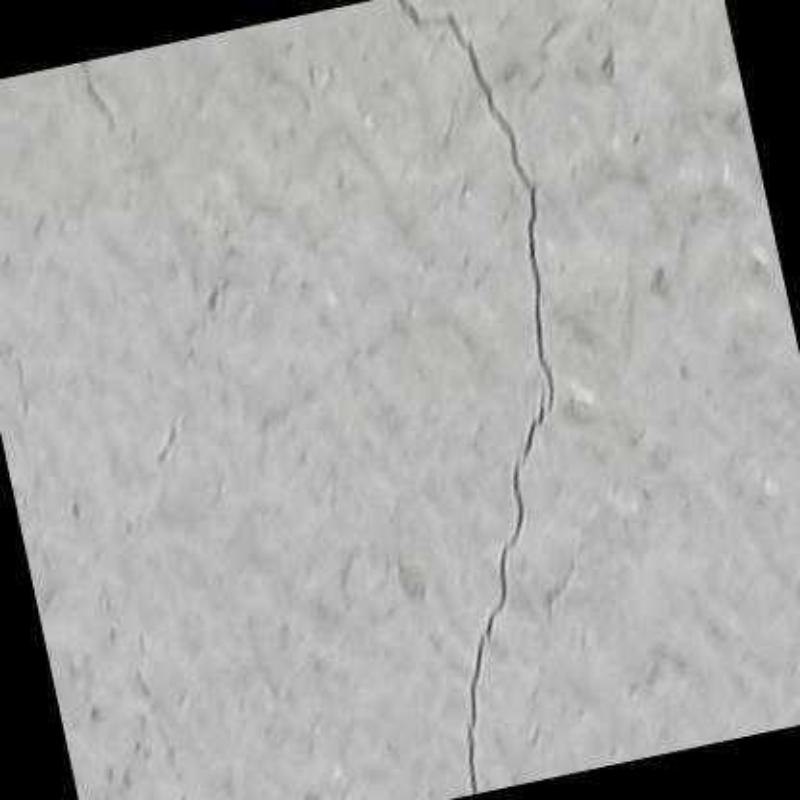crack: (395, 1, 555, 794)
